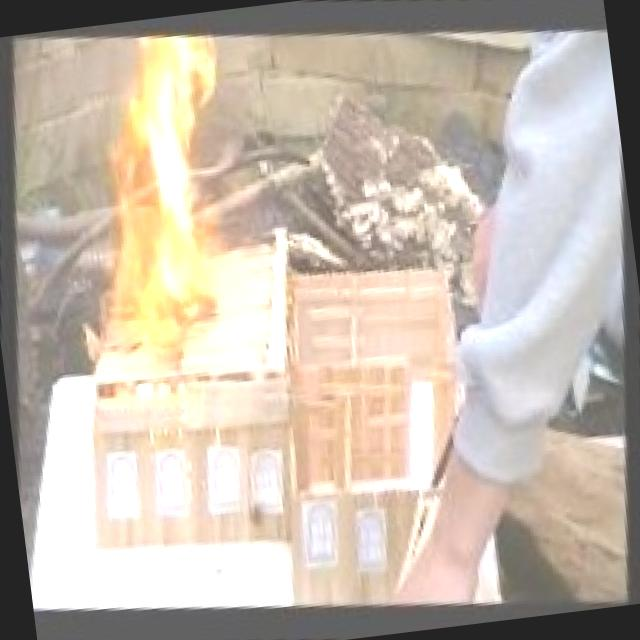fire: (72, 22, 252, 345)
